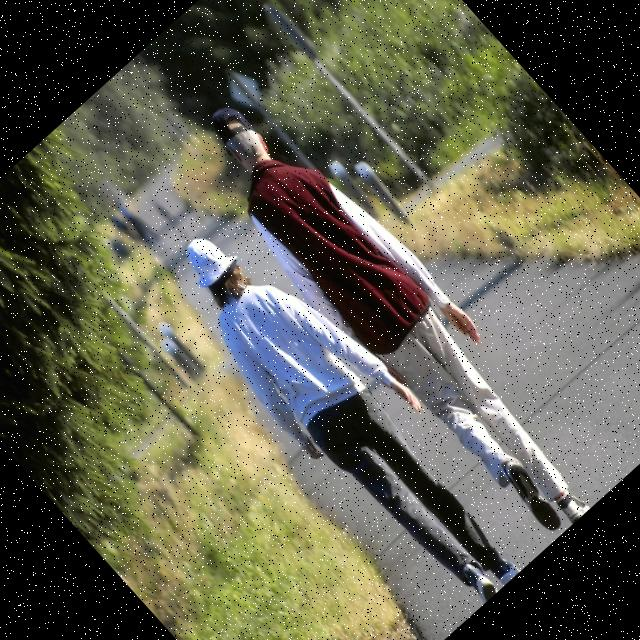Person: (171, 76, 619, 556), (146, 197, 550, 626)
